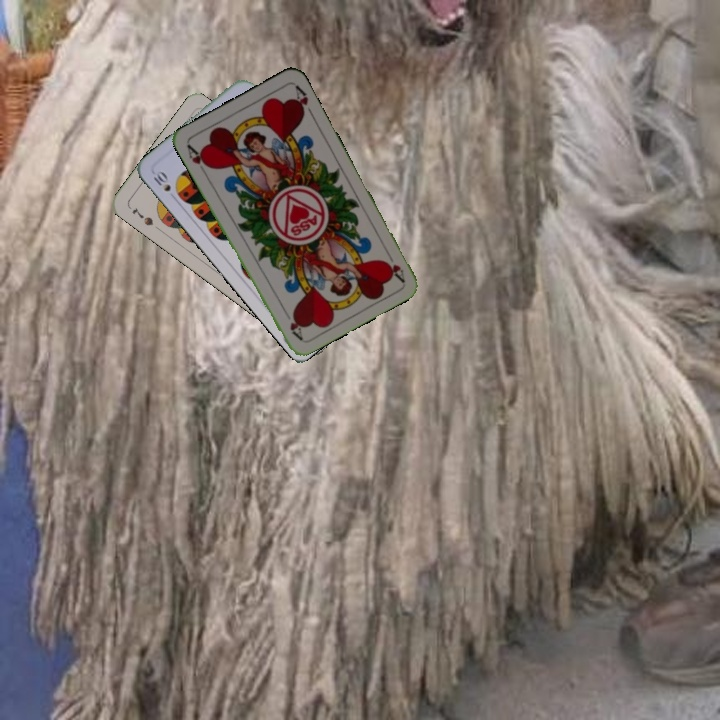HA: (183, 140, 213, 177), (380, 246, 407, 284)
S10: (149, 166, 173, 194)
S7: (128, 203, 156, 228)
